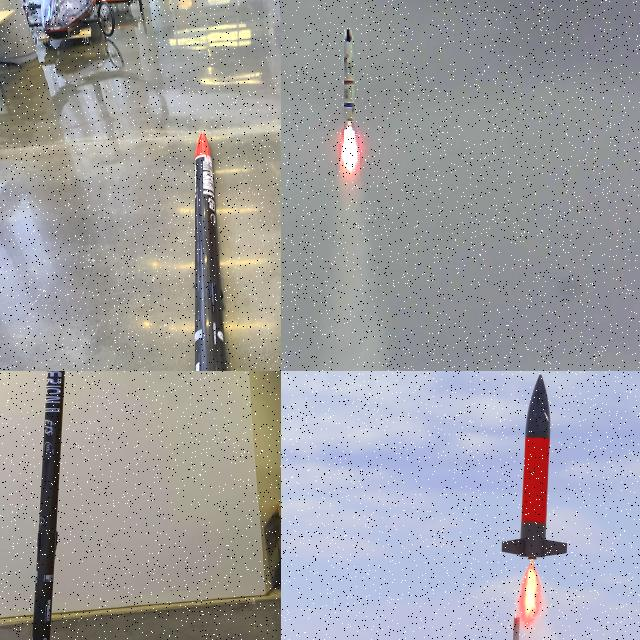Rocket: (500, 374, 570, 562), (32, 371, 65, 640), (195, 131, 226, 371), (342, 27, 358, 126)
